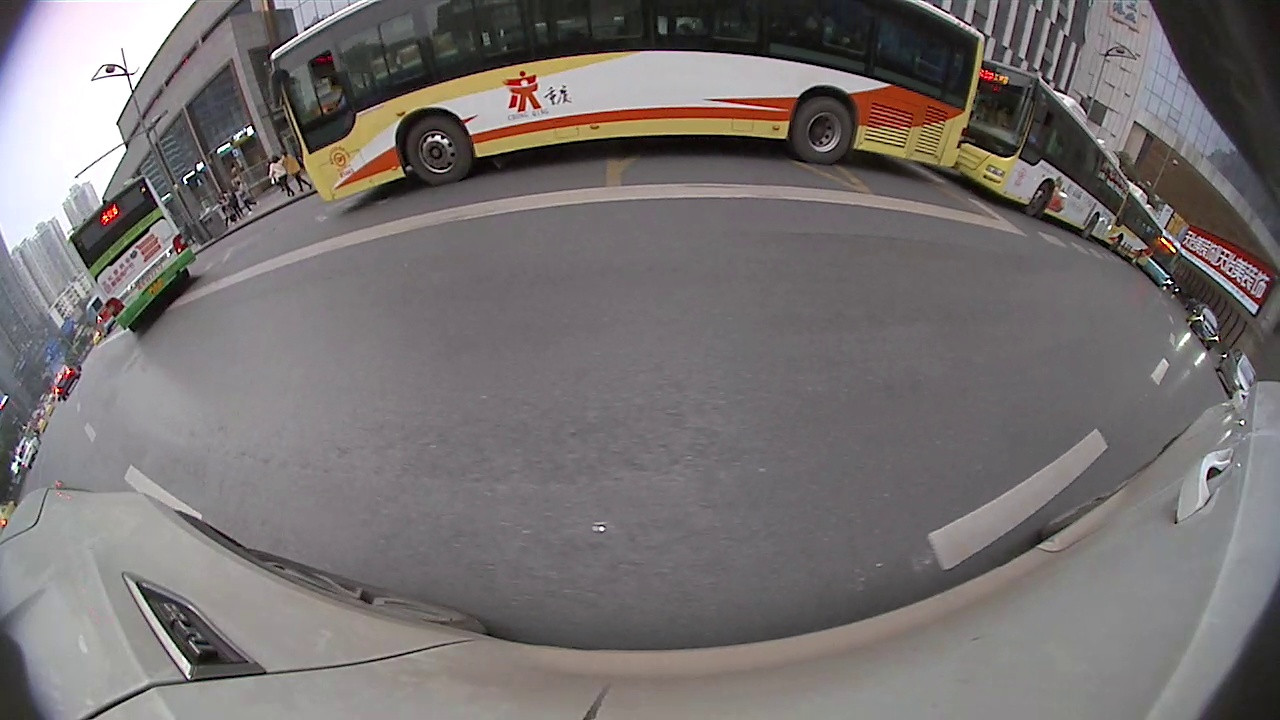car: (697, 52, 956, 217), (952, 178, 1140, 344), (68, 186, 218, 318), (1183, 366, 1238, 436), (1141, 296, 1184, 348)
front: (910, 181, 948, 217), (113, 266, 144, 306), (1099, 315, 1129, 341)
rear: (755, 135, 804, 184), (1043, 292, 1085, 328), (84, 286, 108, 319)
